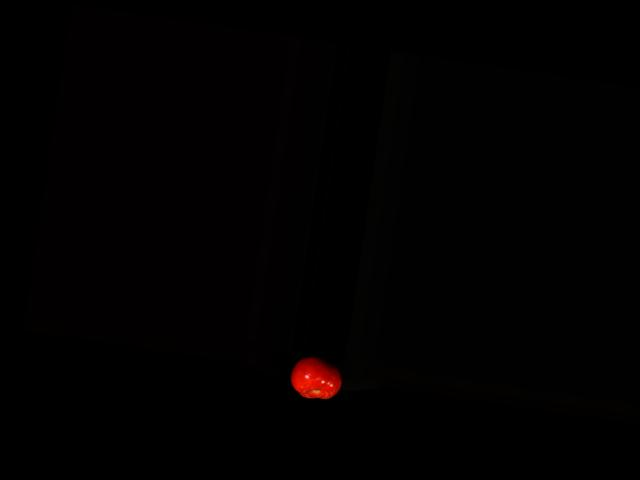tomato: (287, 352, 344, 402)
